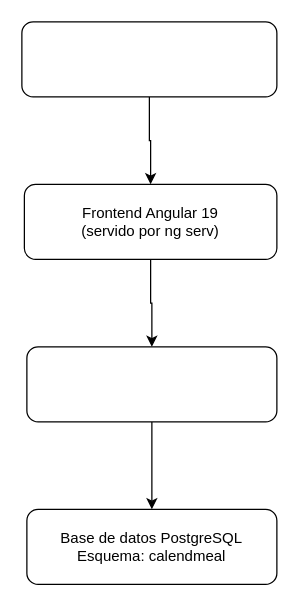
Some shapes in this 299 by 606 pixel diagram are drawn without their labels. The shapes that lost their labels are listed below. From the top down, each one's centre as x and y in pixels, then its label:
At (x=149, y=59): "Cliente web/ móvil".
At (x=151, y=384): "Backend Spring Boot (Java) Puerto 8080".
